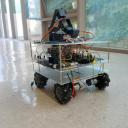cart: (30, 40, 112, 104)
